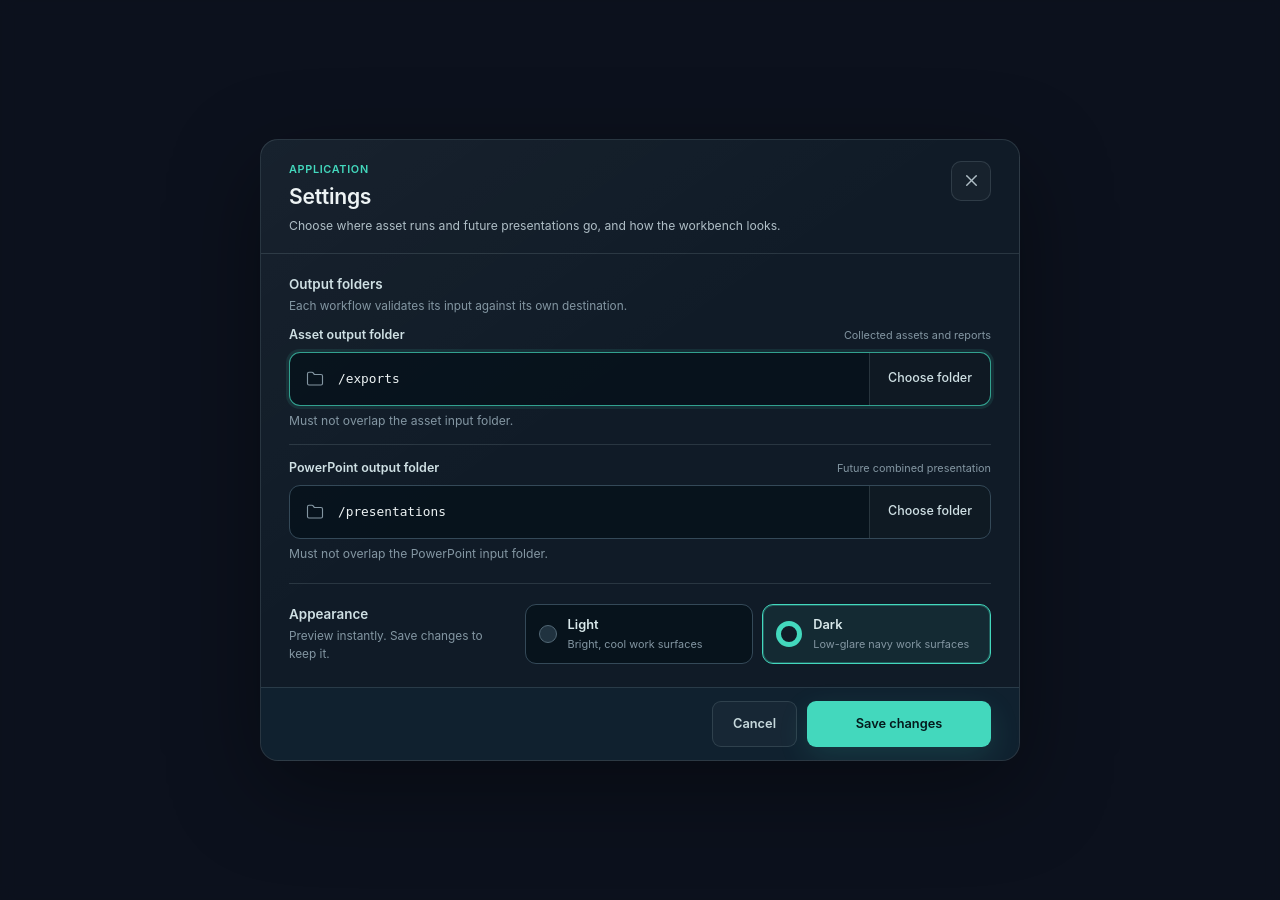
Test: SettingsDialog › keeps the dialog open and reports a rejected save
The width and height of the screenshot is (1280, 900).
Click the button "Save changes" at (899, 724), box [807,701,991,747]
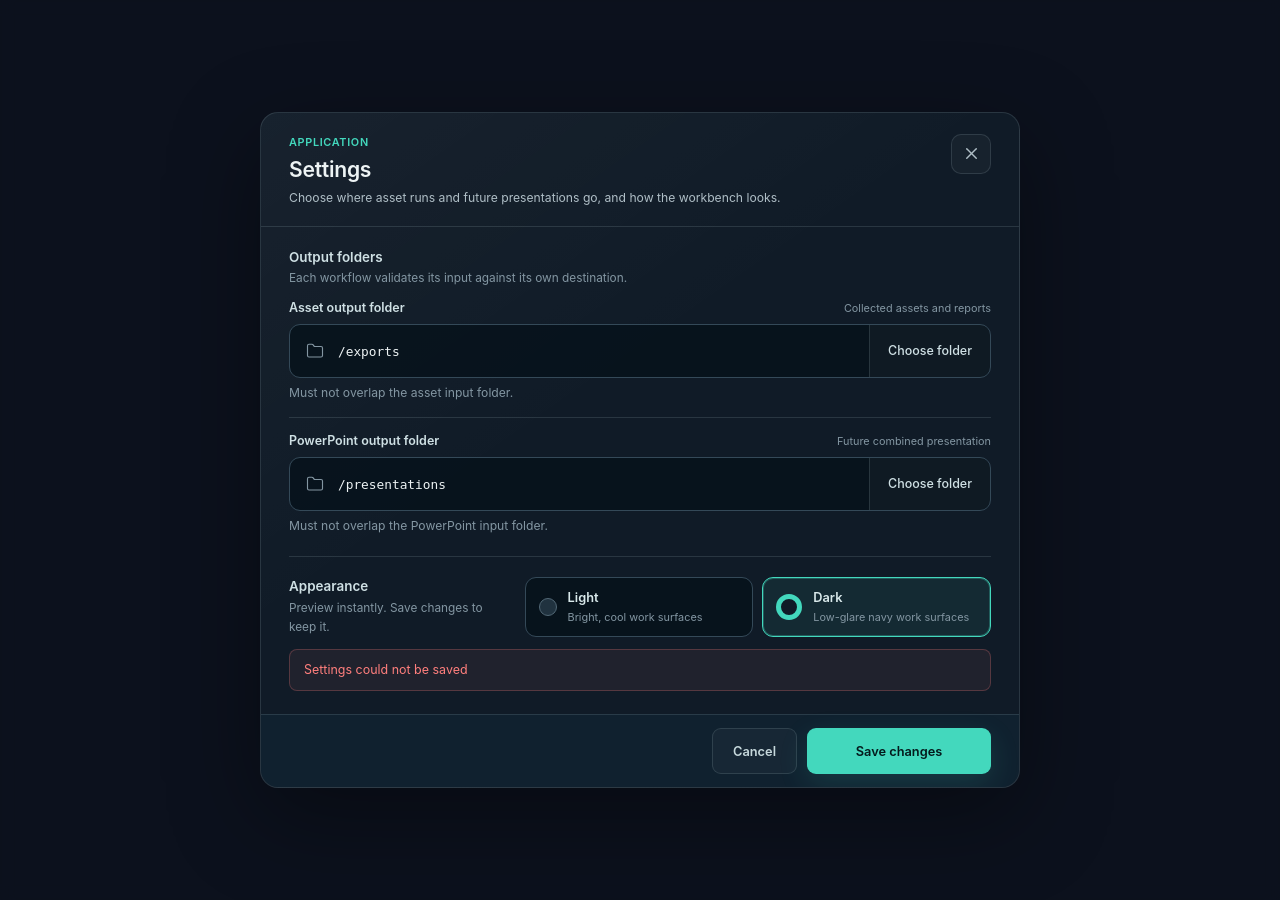
Expected: the dialog "Settings" is shown, [260,112,1020,788]
Result: the message reads "Settings could not be saved" at [304,662,468,677]
